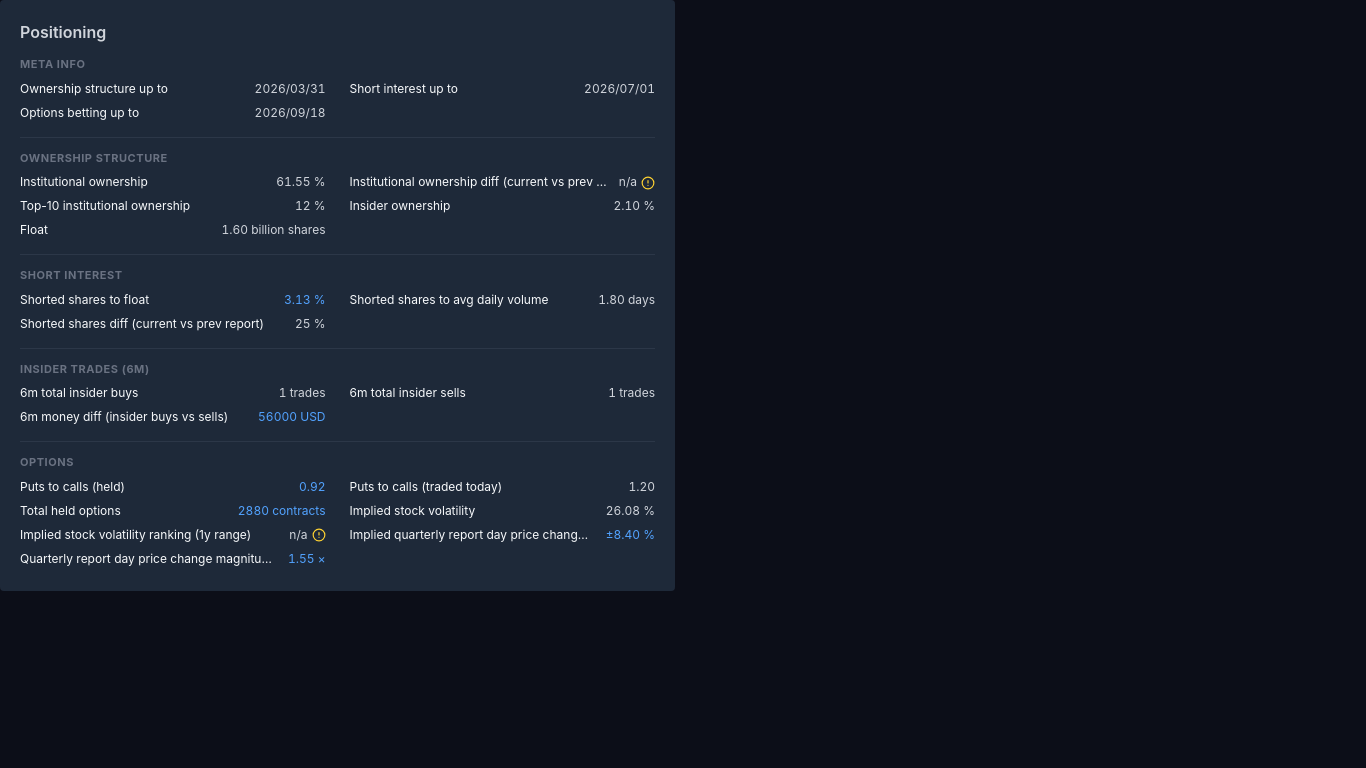
Test: AltDimensions — positioning v2 › links the computed short-percentage receipt back to the float row
The image size is (1366, 768).
Click the button with test id "alt-metric-formula-short_pct_of_float". click: (305, 300)
box: [284,292,326,308]
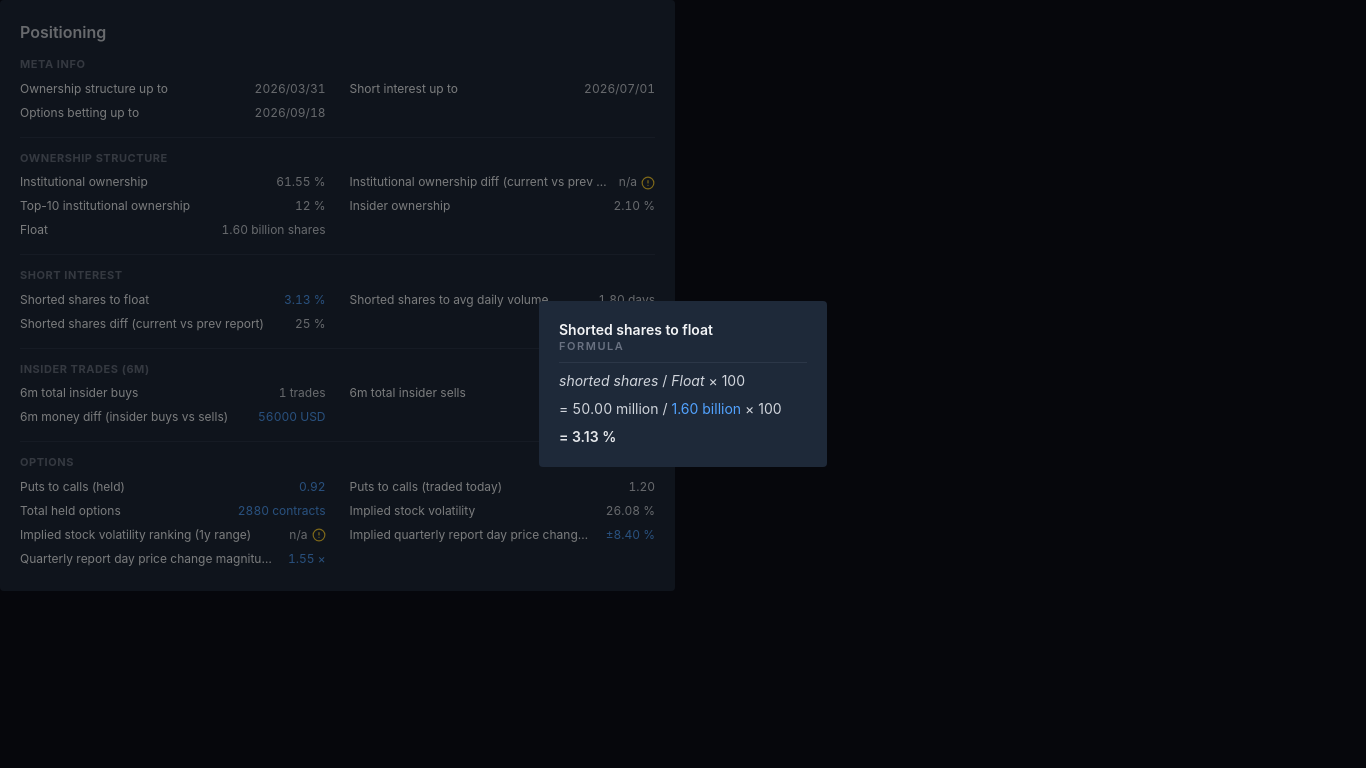
Check: the button with aria-label "Float" is shown, box [672,399,741,419]
Check: the text "shorted shares" is shown, box [559,372,658,389]
